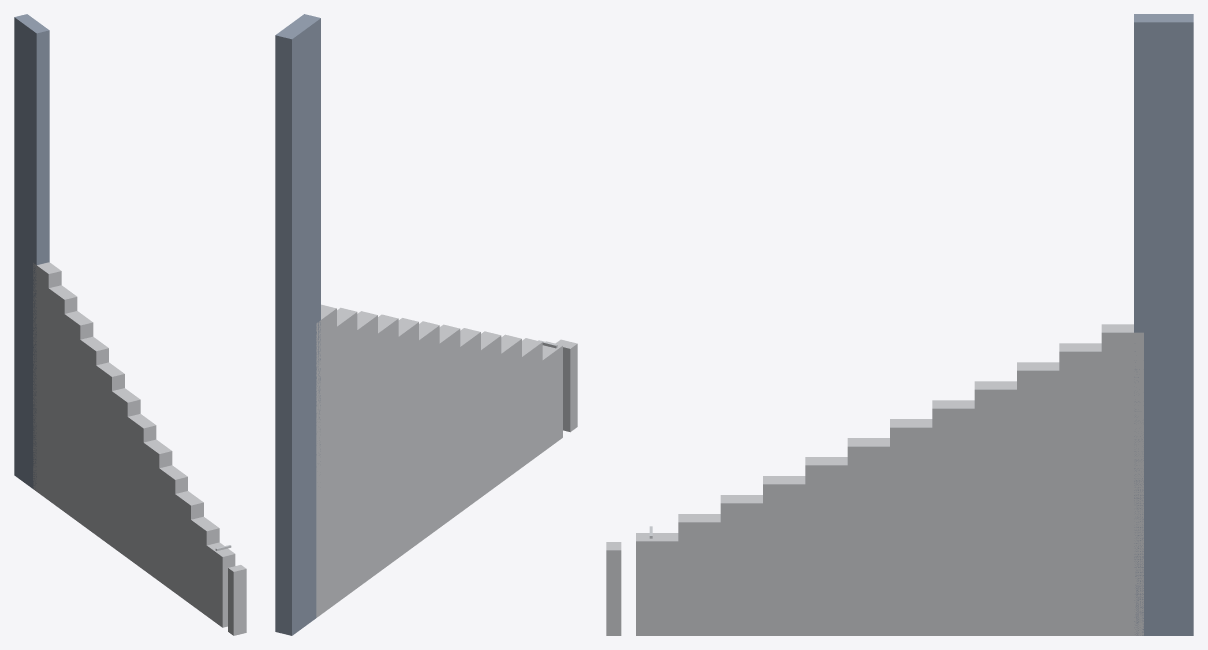
The model's file is grandstand_end.glb.
3 renders of one model, left to right at view 1: azimuth 30°, elevation 25°; view 2: azimuth 150°, elevation 25°; view 3: azimuth 270°, elevation 25°, orthographic. The views are drawn at different scales.
Parts seen in each view (by area): view 1: grandstand_end; view 2: grandstand_end; view 3: grandstand_end.
Boxes of the visible parts, x1,y1,x2,y2 form: grandstand_end: [14, 14, 246, 635]; grandstand_end: [275, 14, 577, 635]; grandstand_end: [606, 14, 1193, 635].
Bounding box in the file's own units: 0.45 × 13.6 × 11.8.
